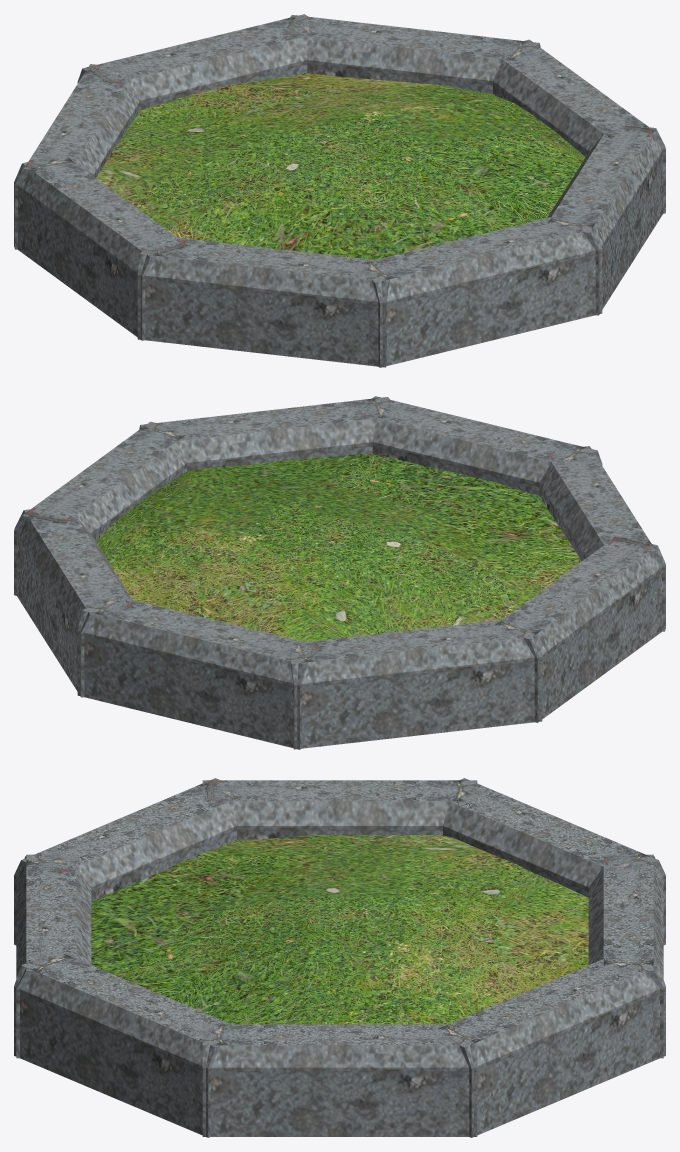
File: parterre_herbe_M.fbx
3 views of the same model, one above another, from view 1: azimuth 30°, elevation 25°; view 2: azimuth 150°, elevation 25°; view 3: azimuth 270°, elevation 25° (orthographic). The views are drawn at different scales.
Parts seen in each view (by area): view 1: parterre_herbe_M.002; view 2: parterre_herbe_M.002; view 3: parterre_herbe_M.002.
Boxes of the visible parts, box(x1,y1,x2,y2) form: parterre_herbe_M.002: box(14, 14, 665, 367); parterre_herbe_M.002: box(14, 396, 665, 749); parterre_herbe_M.002: box(14, 778, 665, 1137).
Size of the model in its own units: 14.25 by 2.11 by 14.25.
2 materials, 2 textured.
